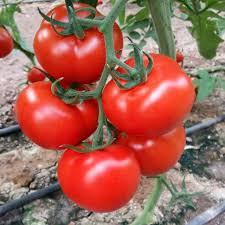Tomato: (99, 52, 198, 132), (24, 6, 123, 78), (52, 140, 143, 211)
